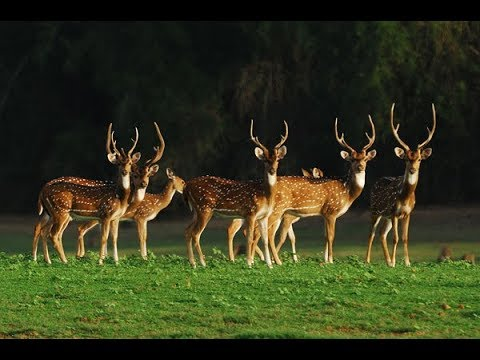Deer: (248, 112, 379, 261), (32, 123, 166, 249), (183, 118, 293, 266), (36, 126, 140, 261), (365, 97, 442, 270), (84, 170, 189, 260)
